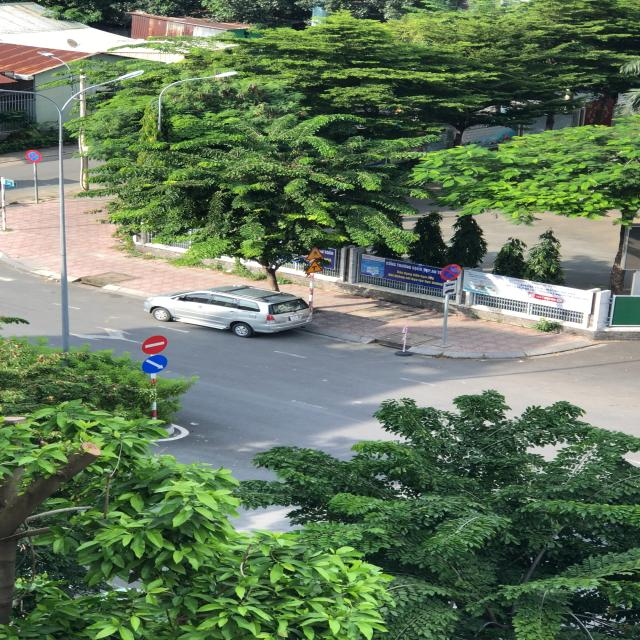Bien bao cam di nguoc chieu: (139, 335, 172, 355)
Bien bao cam dung xe va do xe: (439, 262, 463, 281)
Bien bao duong giao nhau: (303, 260, 326, 274)
Bien bao duong nguoi di bo cat ngang: (304, 246, 326, 260)
Bien bao huong phai di vong chuong ngai vat: (140, 354, 172, 375)
